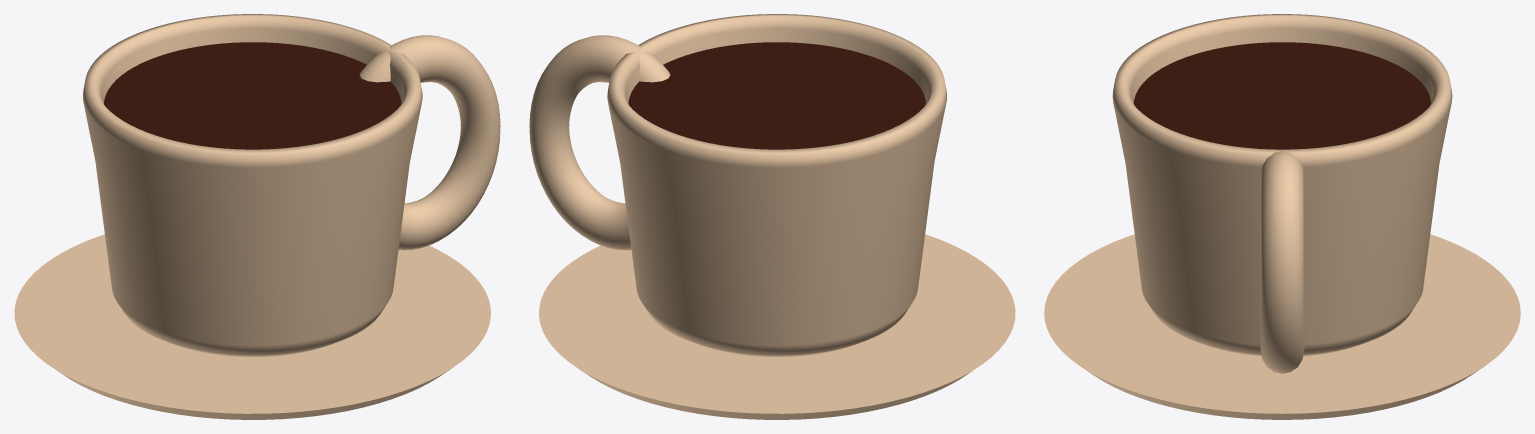
Rendered from cup.glb.
3 renders of one model, left to right at view 1: azimuth 30°, elevation 25°; view 2: azimuth 150°, elevation 25°; view 3: azimuth 270°, elevation 25°, orthographic.
Parts seen in each view (by area): view 1: Ceramic, Saucer, Coffee, Handle; view 2: Ceramic, Saucer, Coffee, Handle; view 3: Ceramic, Saucer, Coffee, Handle.
Part boxes in pixels (left/top/right/bottom): Ceramic: left=83, top=14, right=422, bottom=357; Saucer: left=14, top=234, right=490, bottom=419; Coffee: left=104, top=42, right=401, bottom=149; Handle: left=359, top=35, right=500, bottom=250; Ceramic: left=607, top=14, right=946, bottom=357; Saucer: left=539, top=234, right=1015, bottom=419; Coffee: left=628, top=42, right=925, bottom=149; Handle: left=529, top=35, right=670, bottom=250; Ceramic: left=1112, top=14, right=1452, bottom=356; Saucer: left=1044, top=234, right=1520, bottom=419; Coffee: left=1133, top=42, right=1431, bottom=149; Handle: left=1260, top=151, right=1304, bottom=373.
Size of the model in its own units: 2.51 by 1.32 by 2.3.
